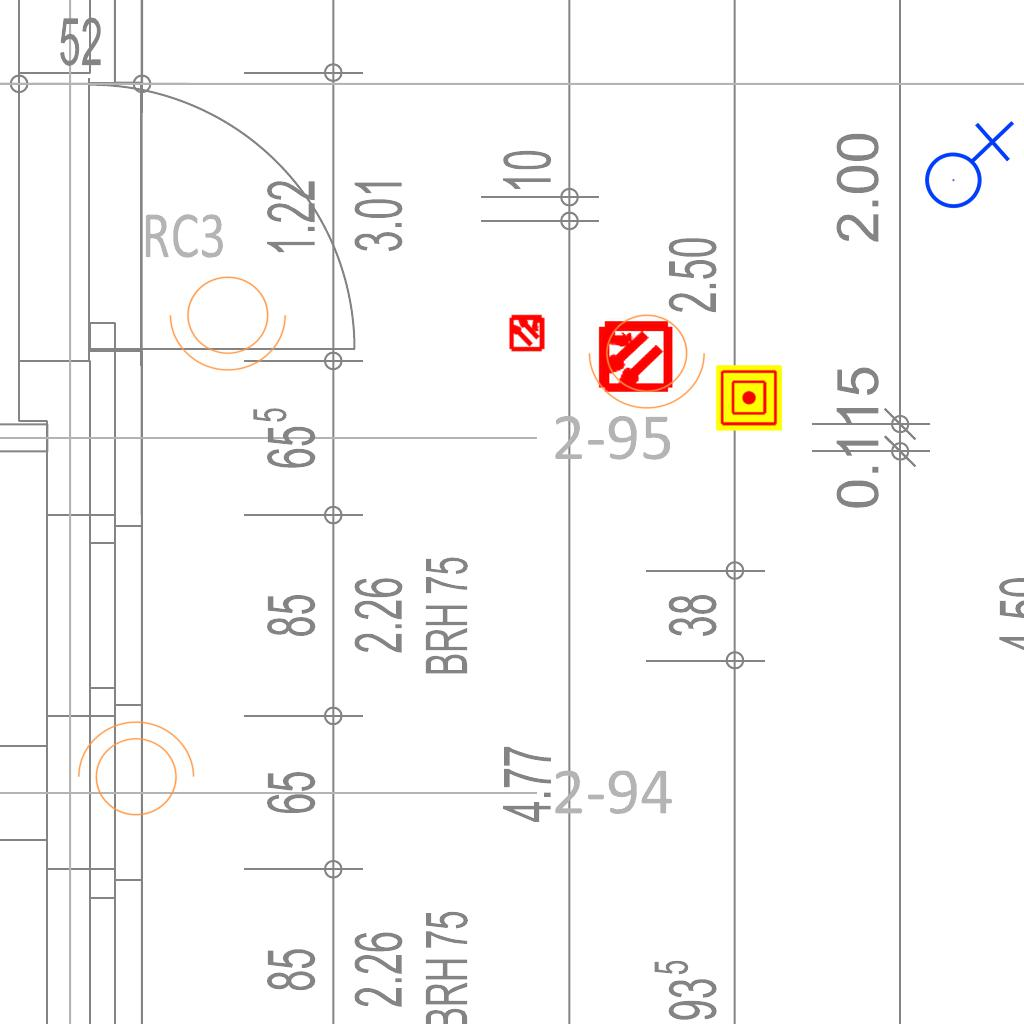Elektroanschluss_allgemein_230V_Geraeteanschlussdose_230V: (916, 116, 1015, 210)
NAM-Nichtautomatischer_Melder: (716, 365, 782, 431)
OT_Multisensormelder_(Kombination_RMO_WMD): (577, 300, 690, 413), (499, 304, 555, 360)
Scheinwerfer_fuer_Alarmbeleuchtung: (165, 264, 297, 376), (67, 716, 199, 828), (584, 302, 716, 414)
